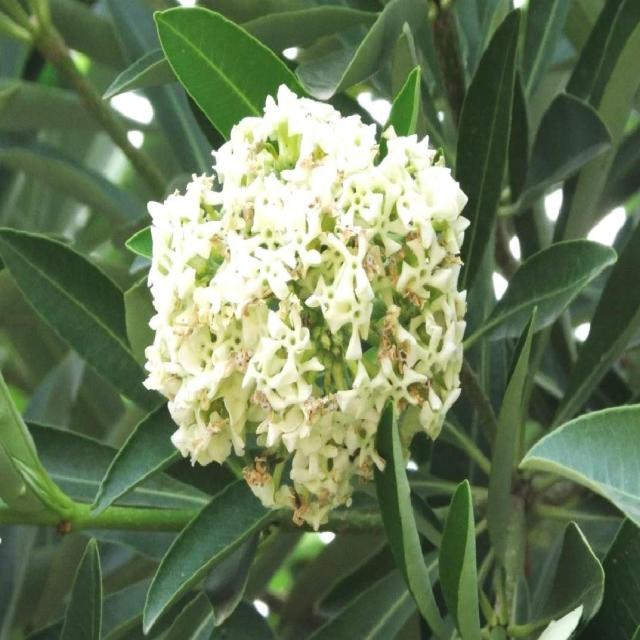Indian Pulai: (108, 82, 488, 537)
